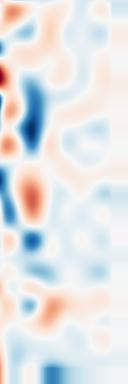filament: (10, 160, 58, 229)
